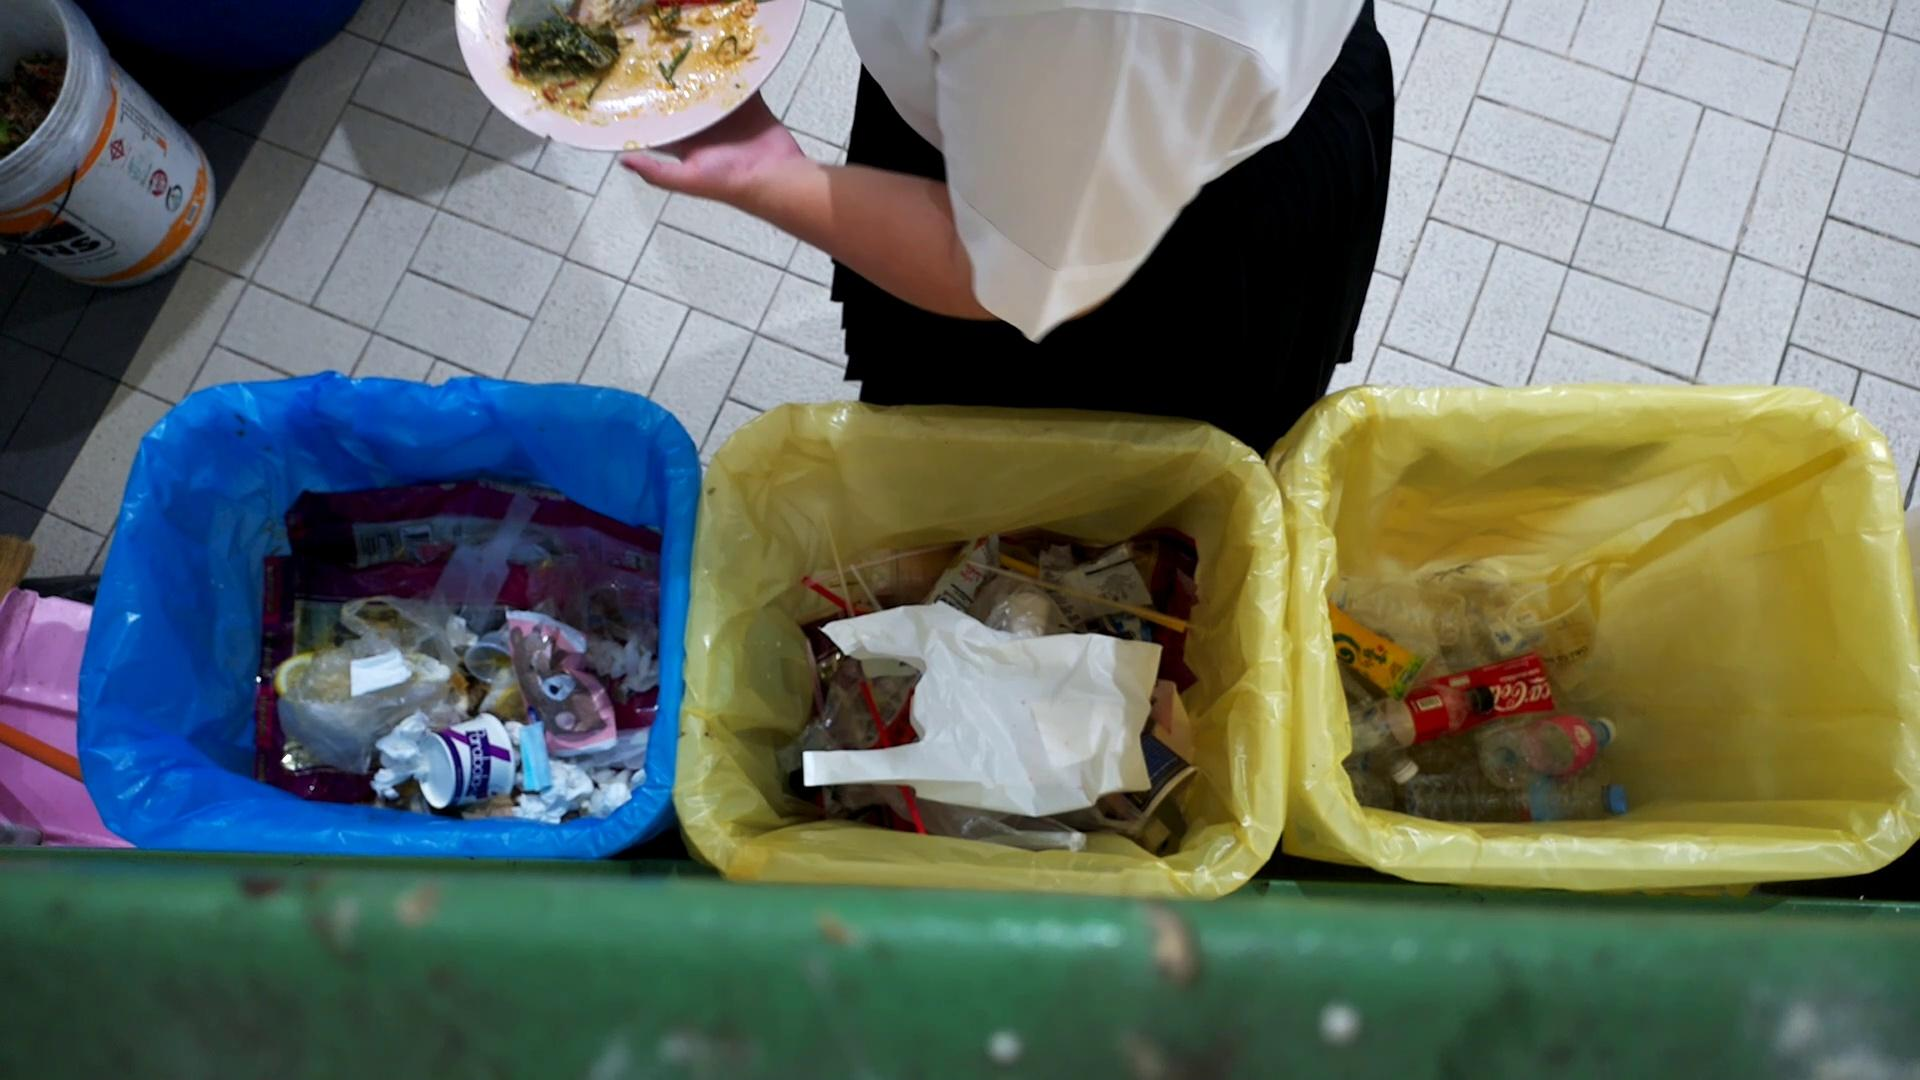filled plastic bag: (268, 582, 473, 770)
food container: (410, 707, 518, 812), (460, 624, 517, 688)
plastic bag: (800, 595, 1159, 816)
plastic bottle: (1383, 641, 1501, 818), (1456, 704, 1629, 782), (1320, 568, 1465, 647), (1336, 662, 1423, 789), (1445, 766, 1639, 822)
plastic cup: (1505, 572, 1625, 702)
snack packaging: (501, 603, 624, 758), (1051, 543, 1153, 630)
straw: (967, 560, 1187, 634), (812, 541, 968, 580), (823, 514, 855, 613), (847, 560, 884, 613), (802, 575, 851, 609)
tissue paper: (588, 628, 662, 695), (375, 708, 440, 770), (347, 644, 415, 703), (529, 754, 592, 811), (510, 721, 553, 795), (582, 765, 640, 818), (368, 754, 430, 802), (444, 609, 484, 653), (514, 794, 568, 824)
